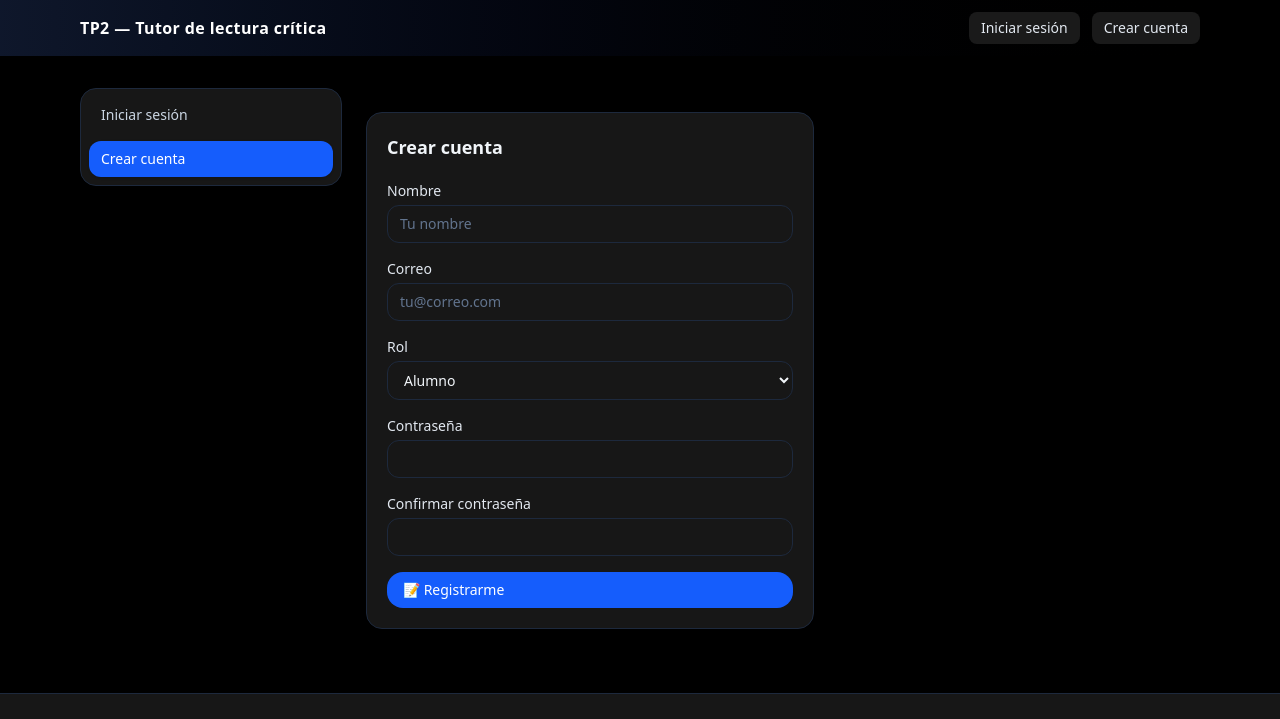
Test: 📝 Register Page E2E › ⚠️ Debe validar que las contraseñas coincidan (Validación Cliente)
The image size is (1280, 719).
// Llenamos con passwords distintos
In the field with test id "reg-name": (590, 224) [387, 205, 793, 243], type "User Fail"
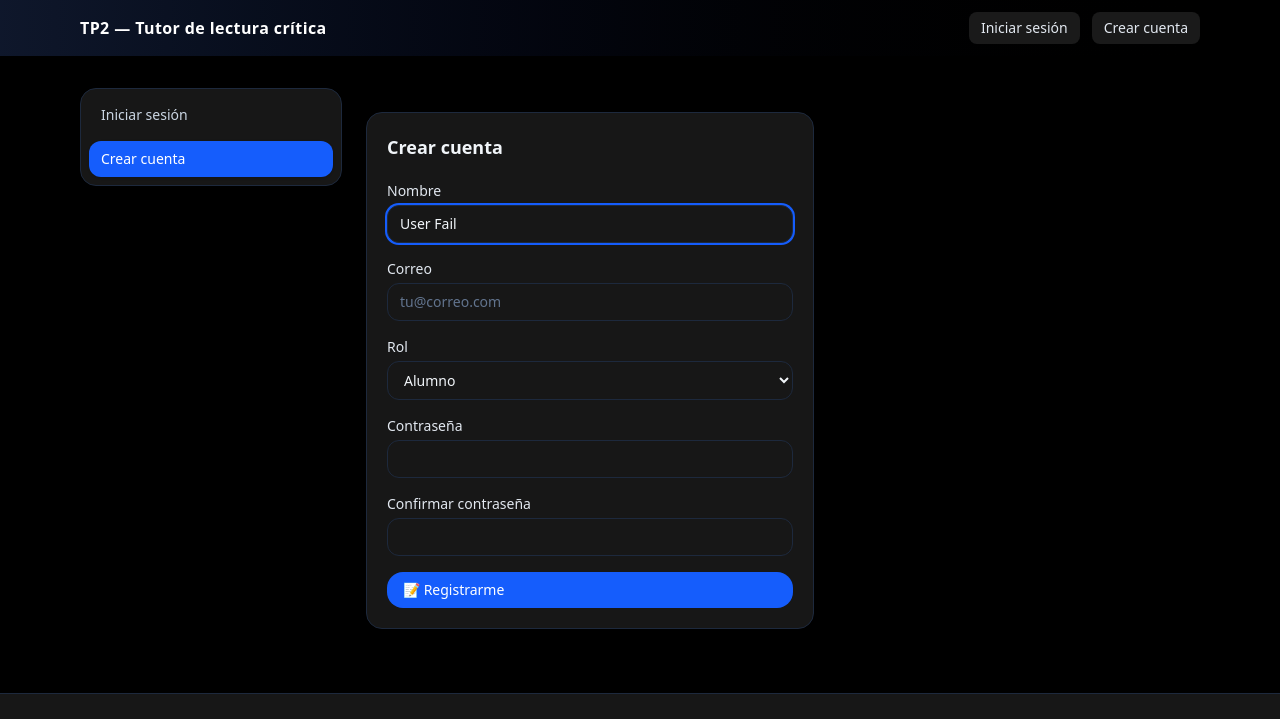
In the field with test id "reg-email": (590, 302) [387, 283, 793, 321], type "fail@test.com"
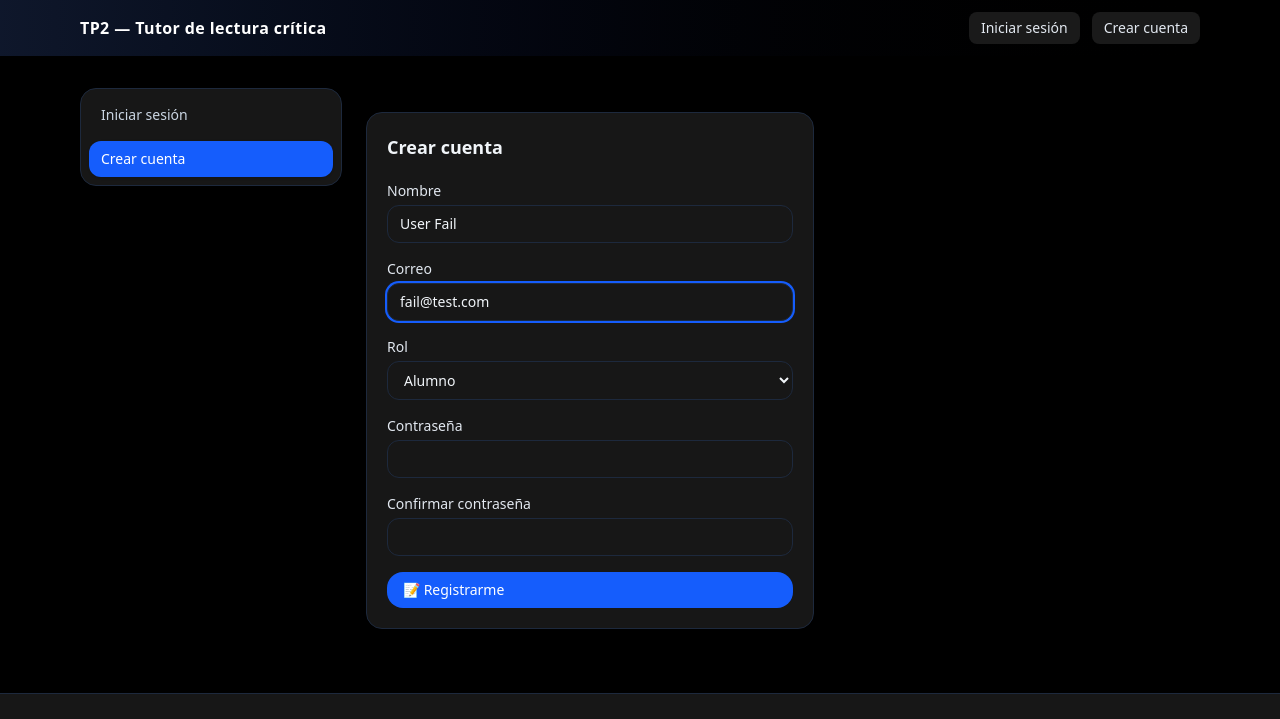
In the password field with test id "reg-pass1": (590, 459) [387, 440, 793, 478], type "passwordA"
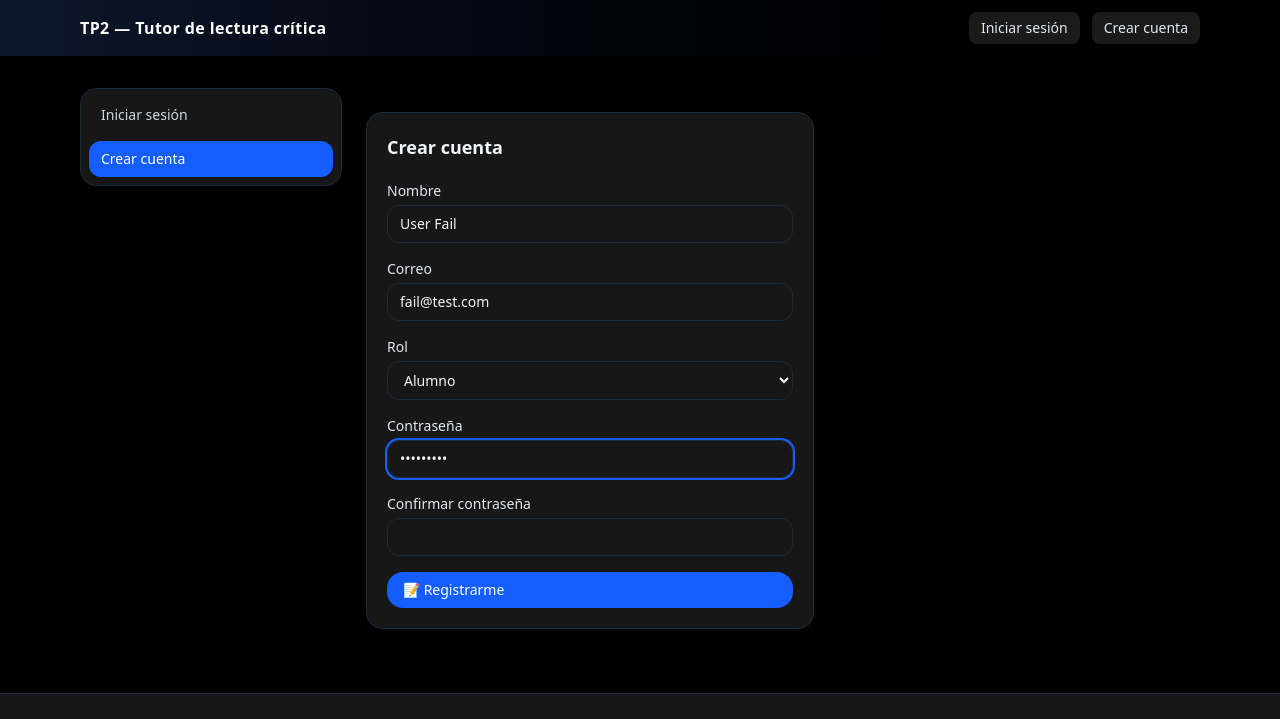
In the password field with test id "reg-pass2": (590, 537) [387, 518, 793, 556], type "passwordB"
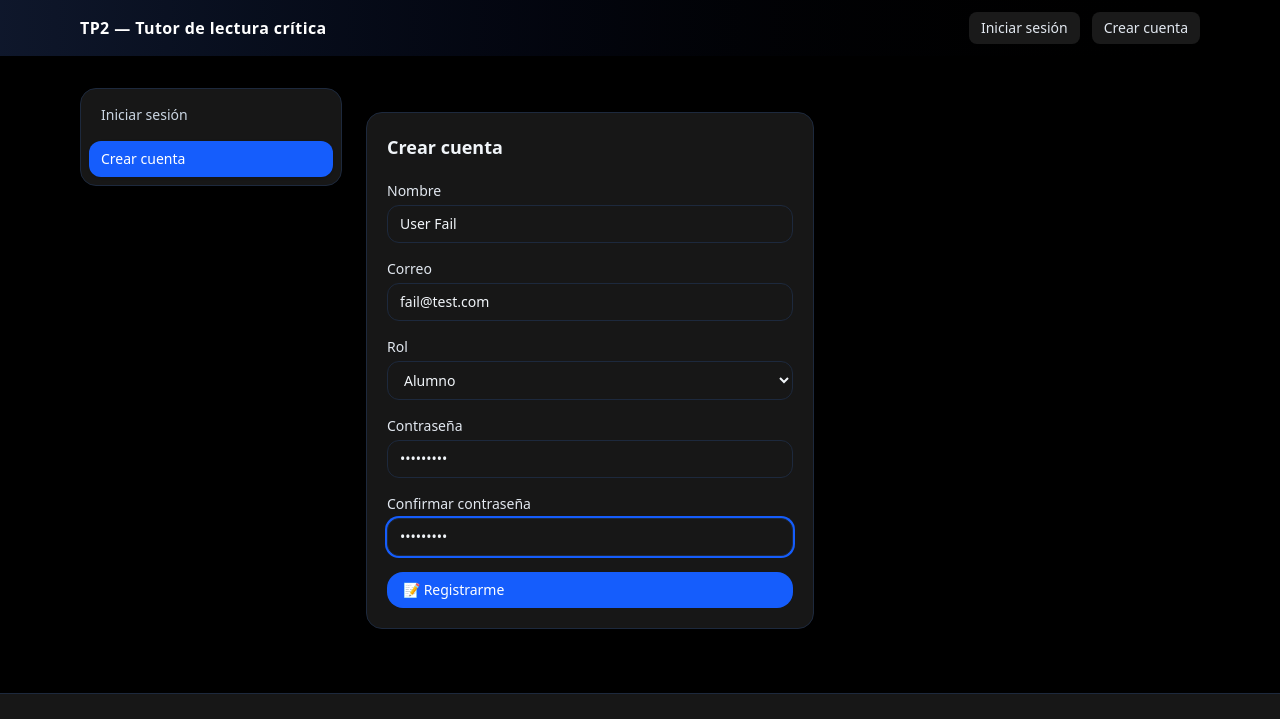
Click the button with test id "reg-submit-btn": (454, 590) [387, 572, 793, 608]
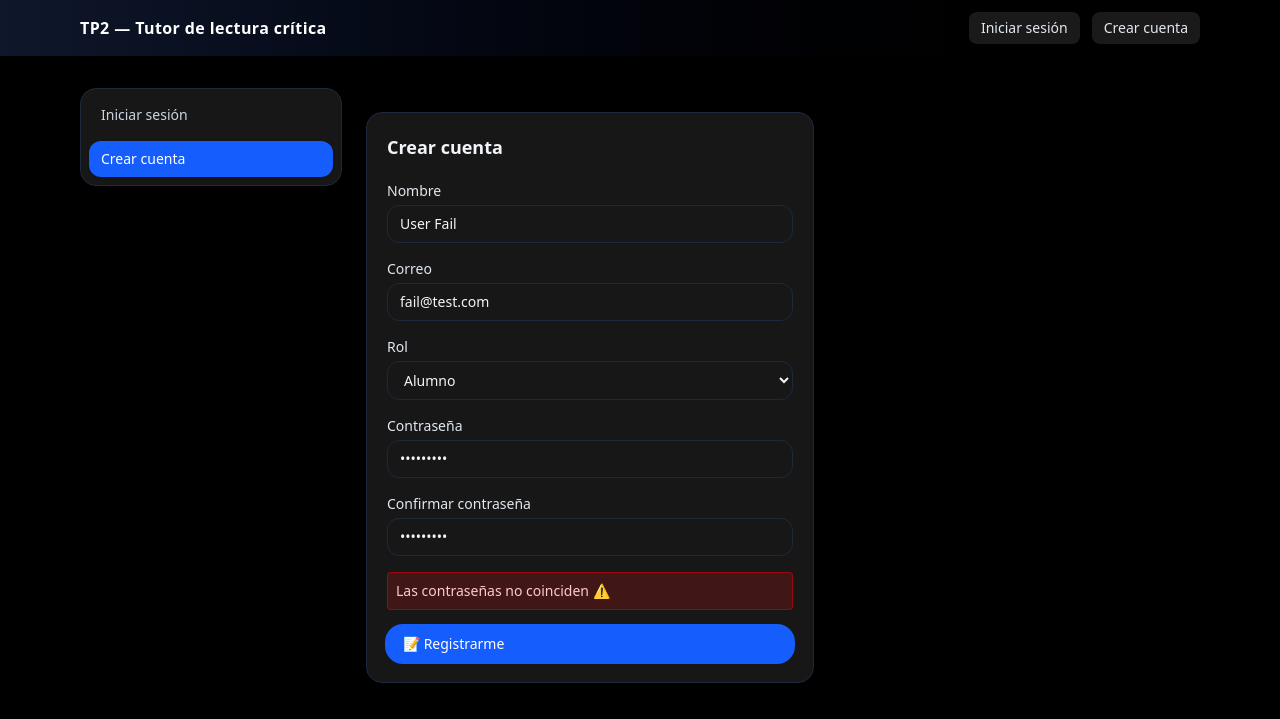
Expected: the text "Las contraseñas no coinciden ⚠️" is shown, [387, 572, 793, 610]
Expected: the text with test id "reg-feedback" shows "contraseñas no coinciden", [396, 581, 610, 600]
